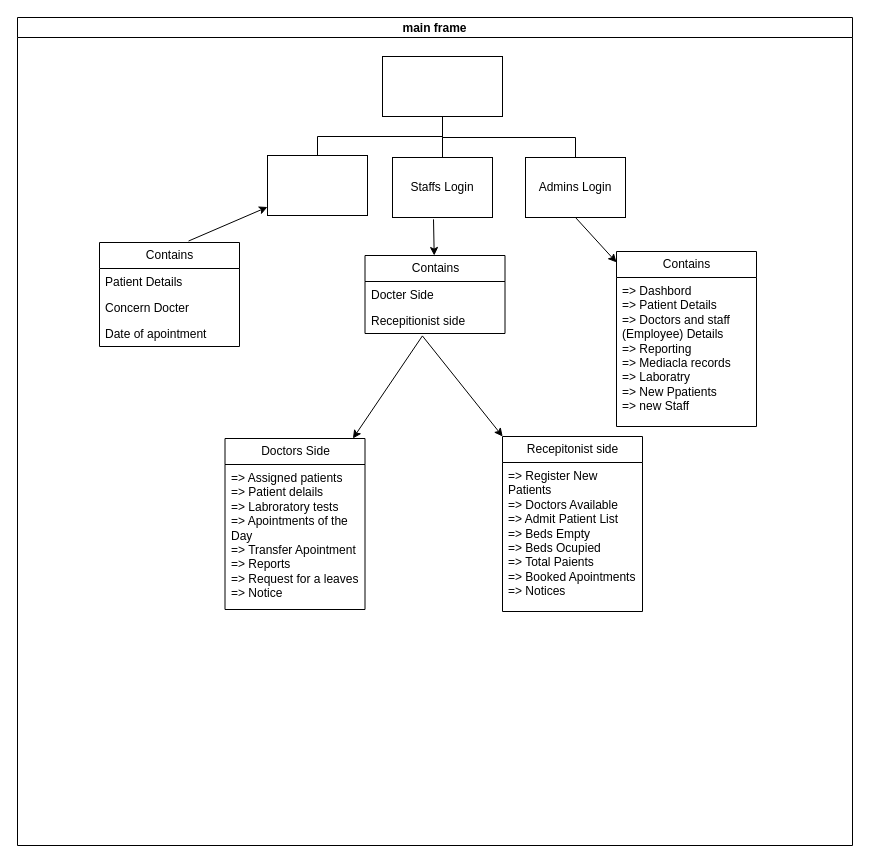
The diagram is 870 pixels wide and 863 high, and some of its shapes have lost their labels. The centre of each missing label's shape, as x and y in pixels:
Book Apointment: point 317,185
Landing page: point 442,86
